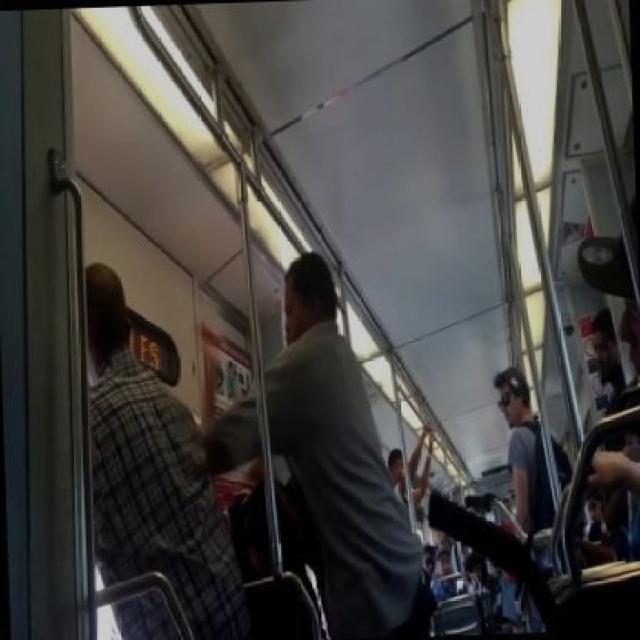non-fight: (194, 251, 426, 640), (77, 260, 251, 640), (490, 366, 572, 534)
